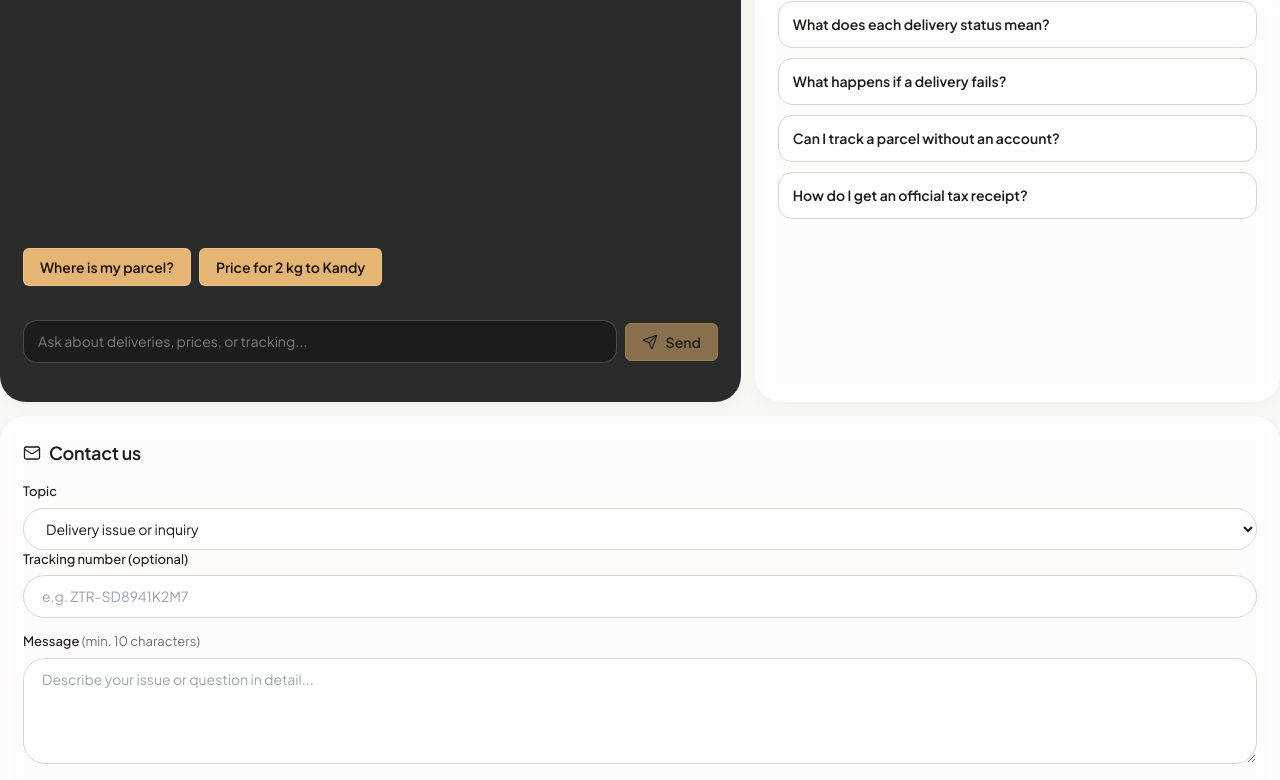
Test: SupportPage Component › displays error bubble with retry button when assistant request fails
This screenshot has width=1280, height=780.
(page scrolled)
Step 1. Type "Is Colombo hub open?" into the field named "Message to delivery assistant" → (320, 342), box [23,320,617,363]
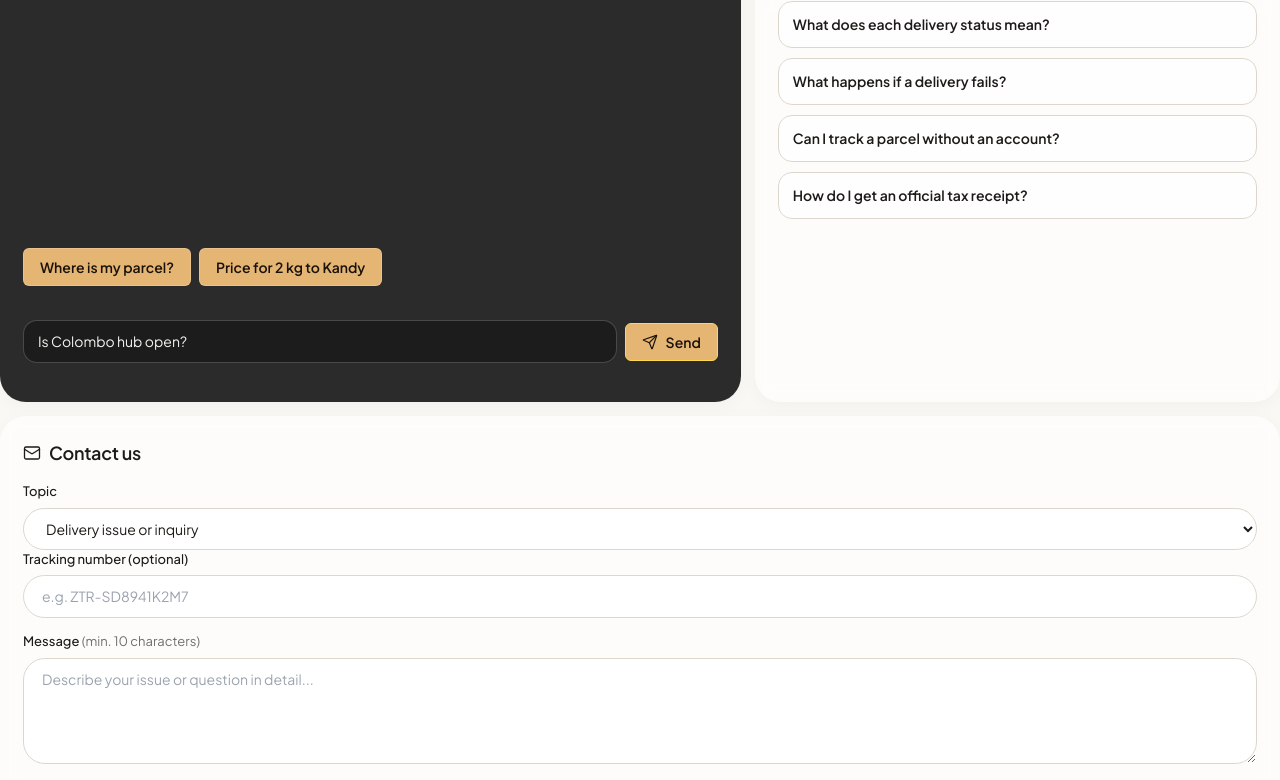
Step 2. Submit the form named "Message to delivery assistant", box [23,320,718,363]
(page scrolled)
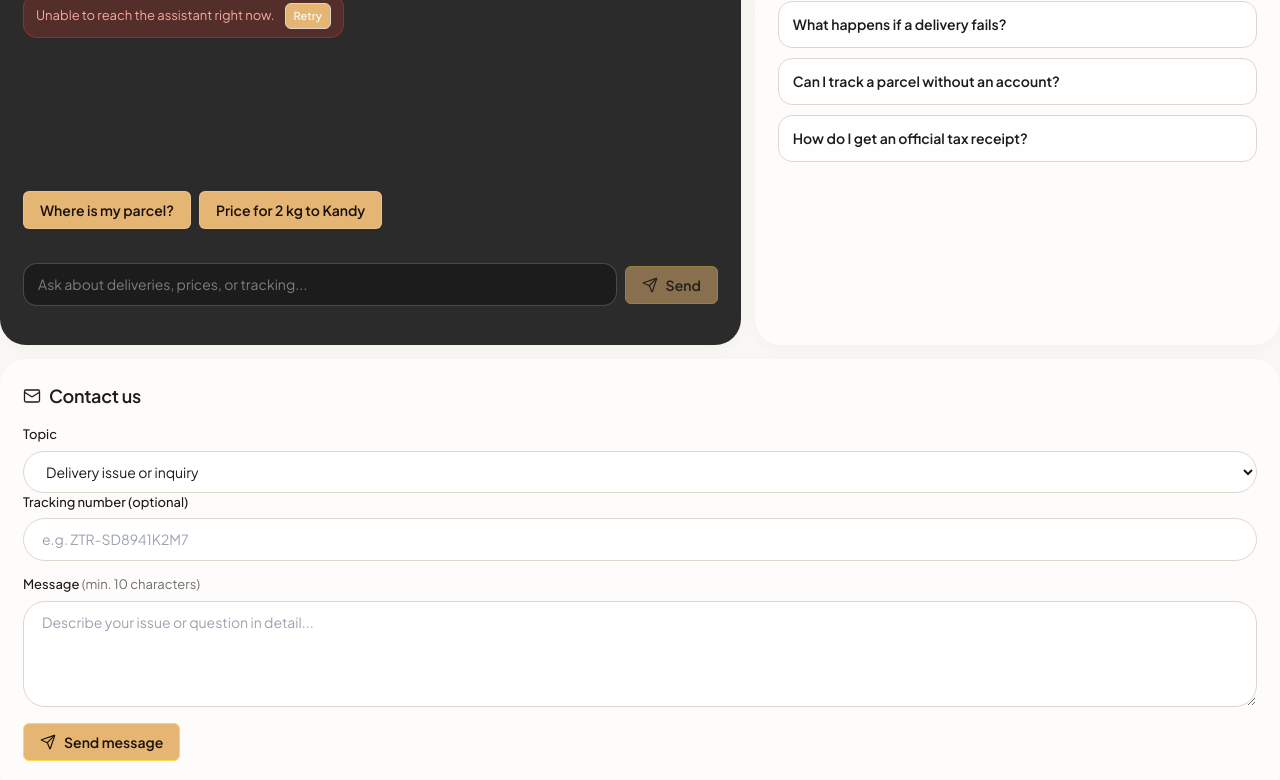
Check: the text "Unable to reach the assistant right now." is shown, box [36,6,275,25]
Check: the button "Retry" is shown
Step 3. Click the button "Retry" → (308, 16), box [285,3,331,29]
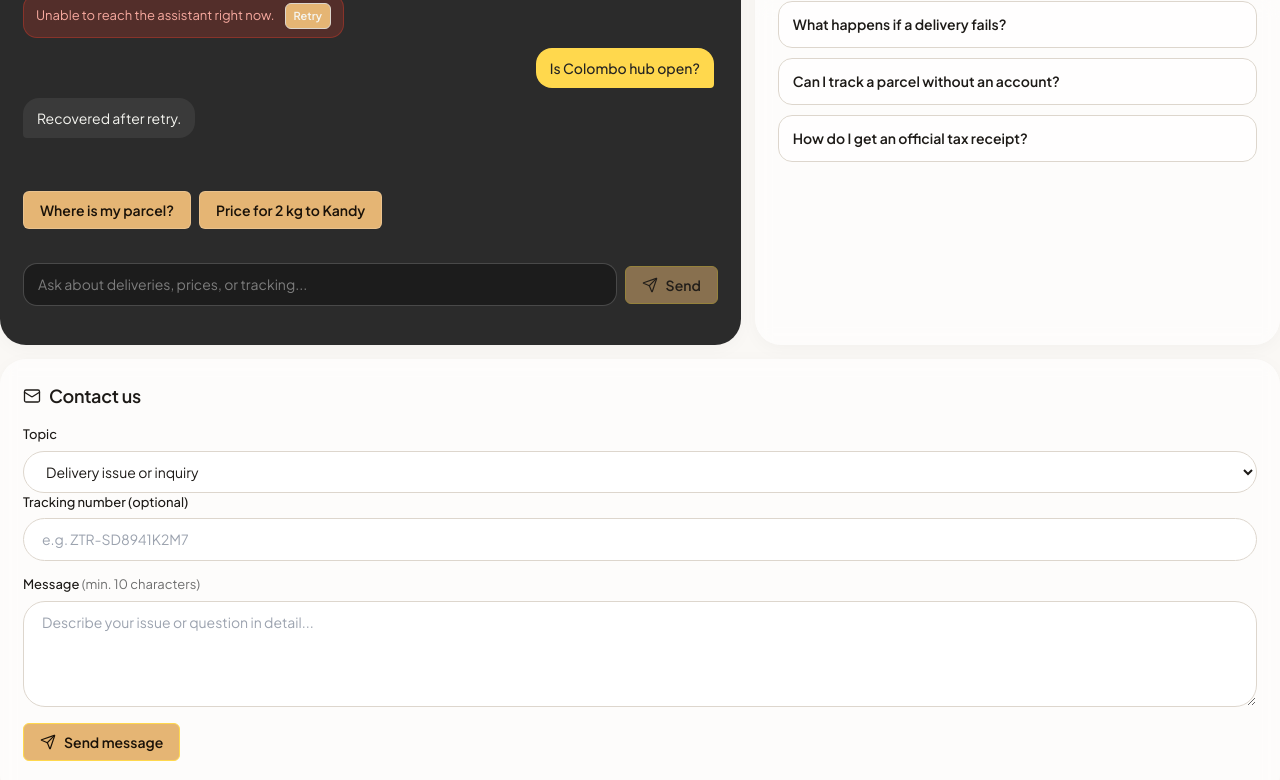
Check: the text "Recovered after retry." is shown, box [23,98,195,138]
